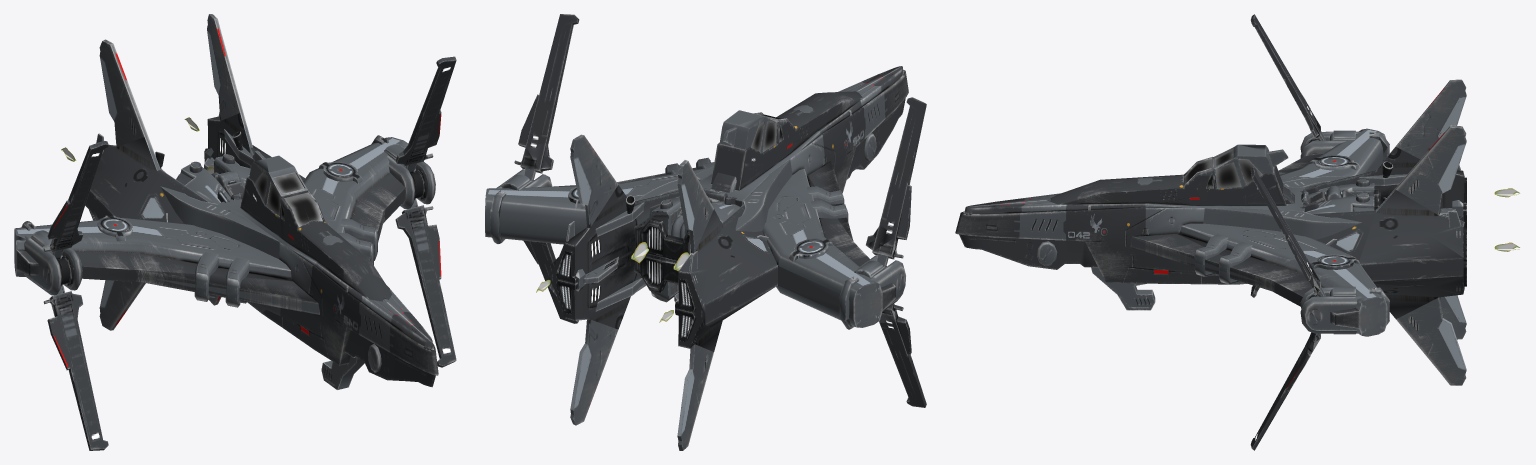
The picture shows the model from 3 angles, left to right: view 1: azimuth 30°, elevation 25°; view 2: azimuth 150°, elevation 25°; view 3: azimuth 270°, elevation 25°; orthographic projection. The views are drawn at different scales.
Parts seen in each view (by area): view 1: Raven; view 2: Raven; view 3: Raven.
Part boxes in pixels (x1,y1,x2,y2): Raven: [14, 14, 456, 450]; Raven: [485, 14, 926, 450]; Raven: [955, 14, 1519, 450].
Size of the model in its own units: 7617 by 10444 by 5688.
